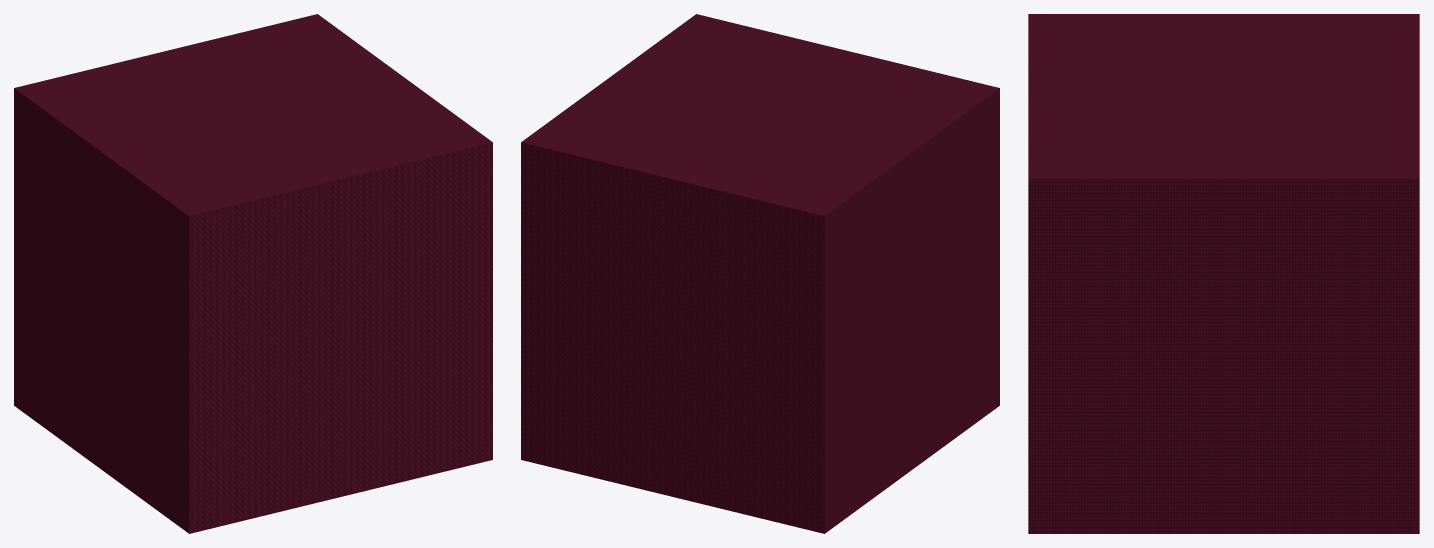
The model's file is cube_sketchfab_animated_1767145518281.glb.
3 renders of one model, left to right at view 1: azimuth 30°, elevation 25°; view 2: azimuth 150°, elevation 25°; view 3: azimuth 270°, elevation 25°, orthographic. The views are drawn at different scales.
Visible parts, largest first — view 1: MathShape; view 2: MathShape; view 3: MathShape.
Boxes of the visible parts, box(x1,y1,x2,y2) form: MathShape: box(14, 14, 492, 533); MathShape: box(521, 14, 999, 533); MathShape: box(1028, 14, 1419, 533).
Size of the model in its own units: 1 by 1 by 1.
Materials: 1 (1 with a texture image).
